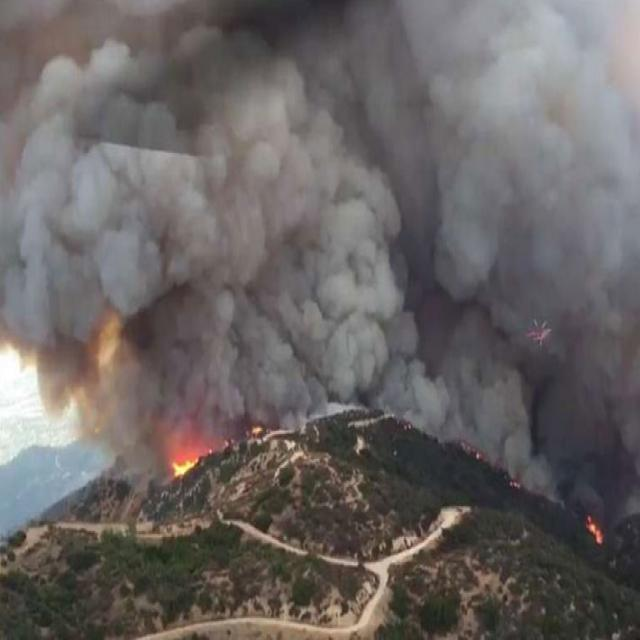Fire: (169, 452, 200, 480), (588, 521, 607, 549)
